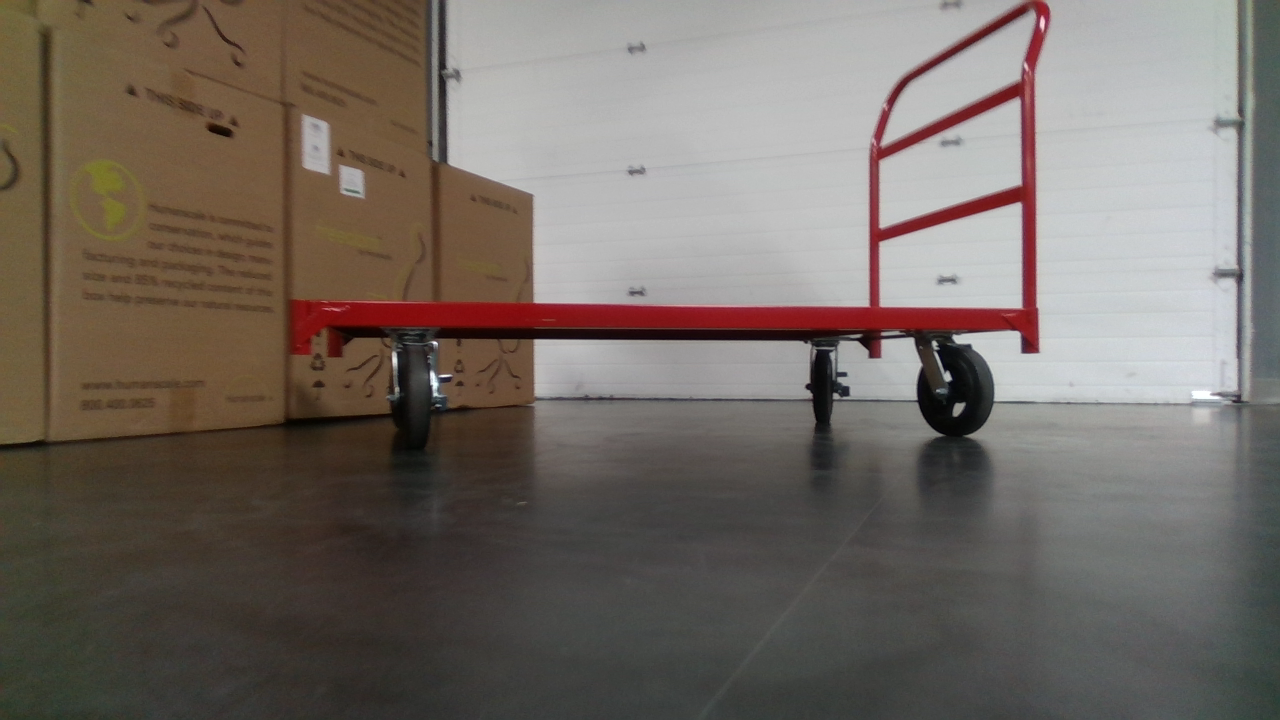Dolly: (278, 0, 1059, 460)
Wheel: (912, 342, 998, 439), (384, 341, 455, 451), (803, 344, 852, 428)
